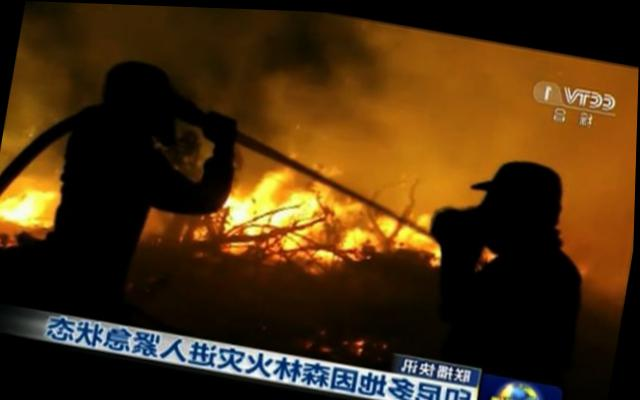fire: (210, 152, 456, 299), (0, 176, 65, 240)
